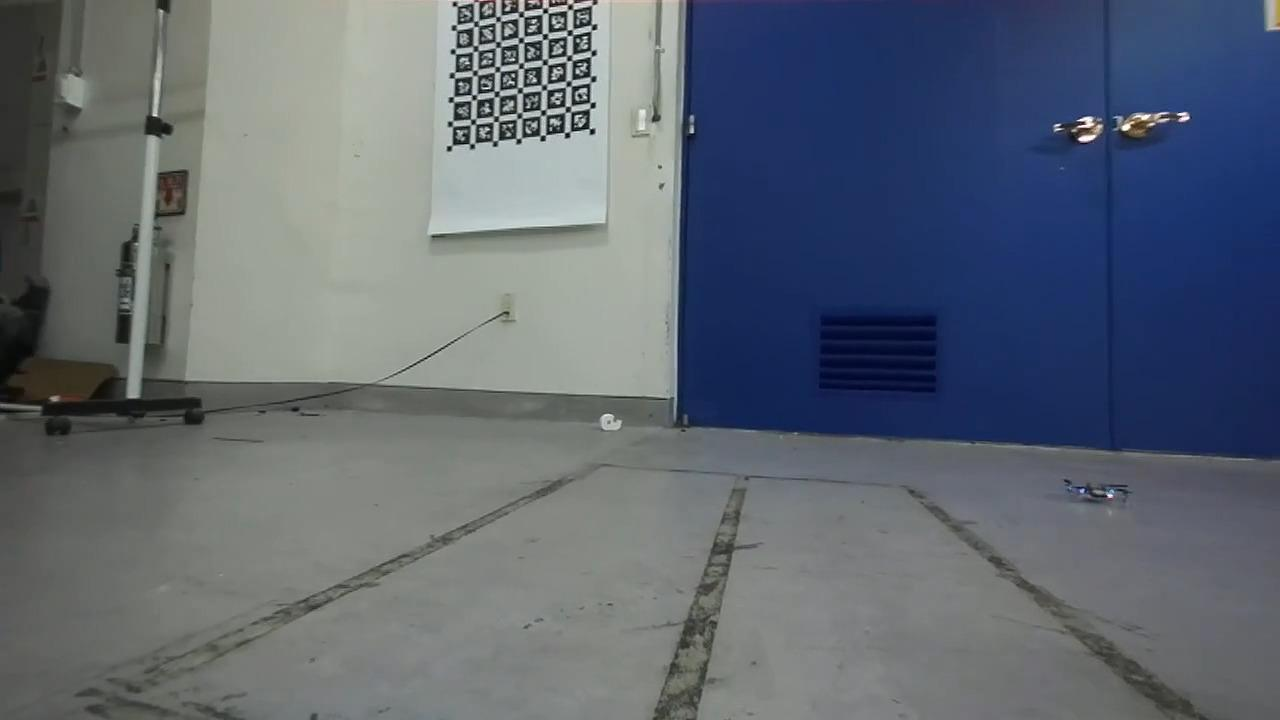crazyflie: (1062, 474, 1134, 507)
